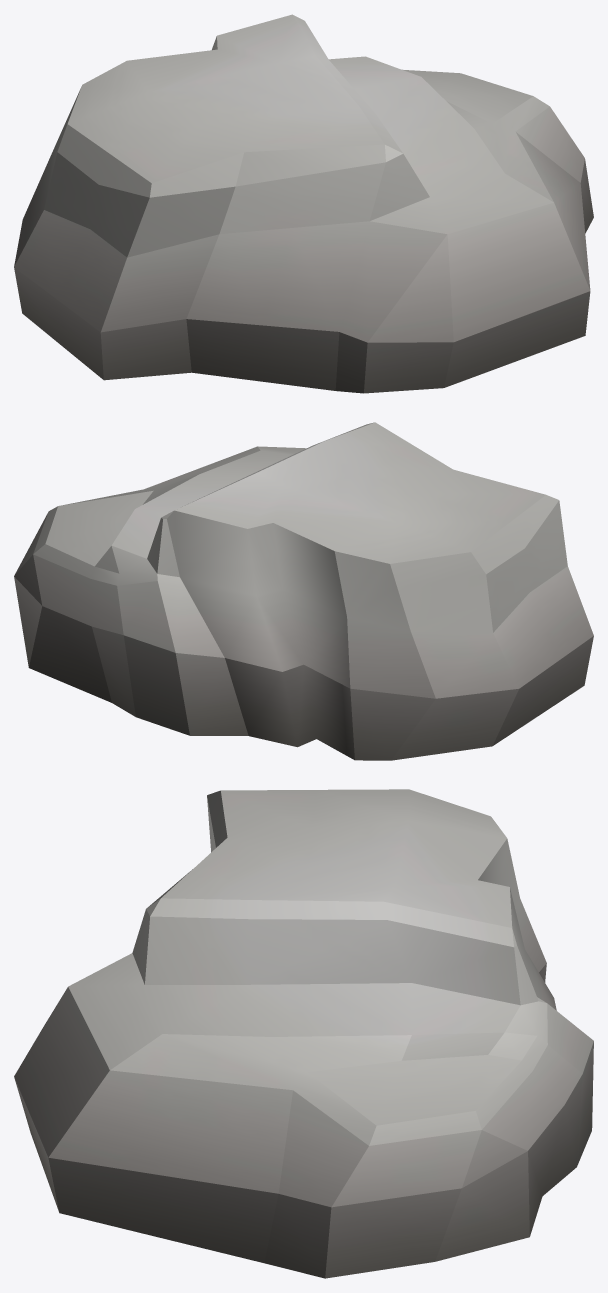
The model's file is Rock_Platform_Medium.fbx.
3 renders of one model, top to bottom at view 1: azimuth 30°, elevation 25°; view 2: azimuth 150°, elevation 25°; view 3: azimuth 270°, elevation 25°, orthographic. The views are drawn at different scales.
Visible parts, largest first — view 1: Rock_Platform_Medium; view 2: Rock_Platform_Medium; view 3: Rock_Platform_Medium.
Boxes of the visible parts, box(x1,y1,x2,y2) form: Rock_Platform_Medium: box(14, 14, 593, 393); Rock_Platform_Medium: box(14, 422, 593, 760); Rock_Platform_Medium: box(14, 789, 593, 1278).
Size of the model in its own units: 1495 by 1203 by 623.
1 material, 1 textured.
